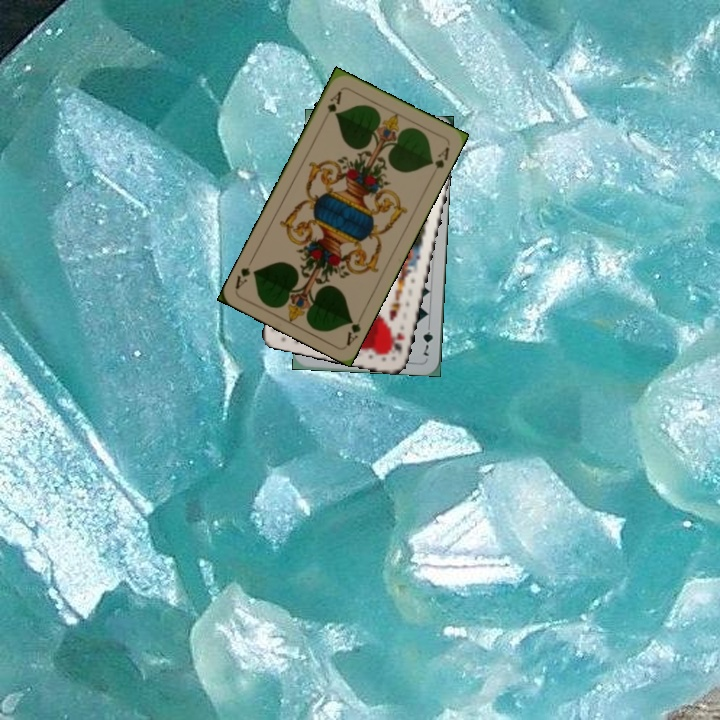G7: (419, 319, 436, 358)
GA: (319, 87, 344, 124), (342, 315, 363, 348)
HK: (386, 328, 407, 356)
